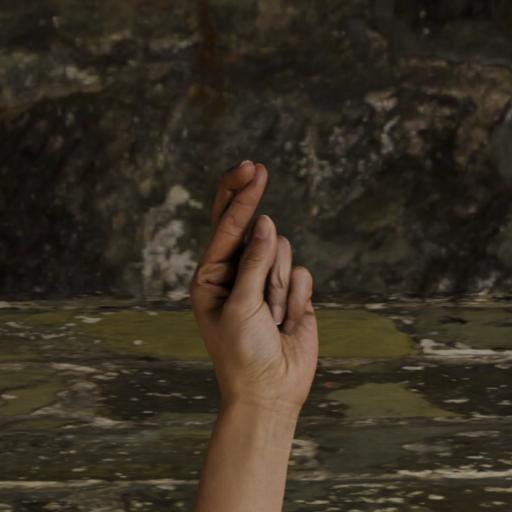R: (180, 151, 332, 418)
